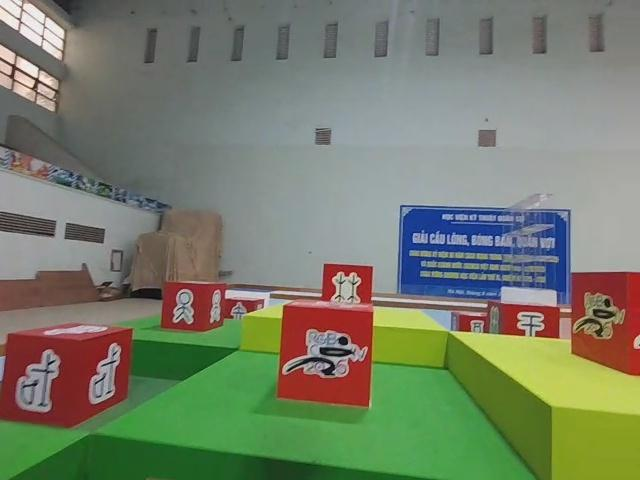R1: (275, 295, 377, 411), (567, 267, 640, 380)
R2 Real: (0, 319, 135, 431), (158, 277, 227, 333), (319, 261, 376, 316)
